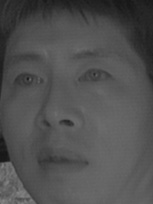eye: (77, 64, 115, 91), (9, 69, 46, 90)
mouth: (33, 144, 90, 180)
